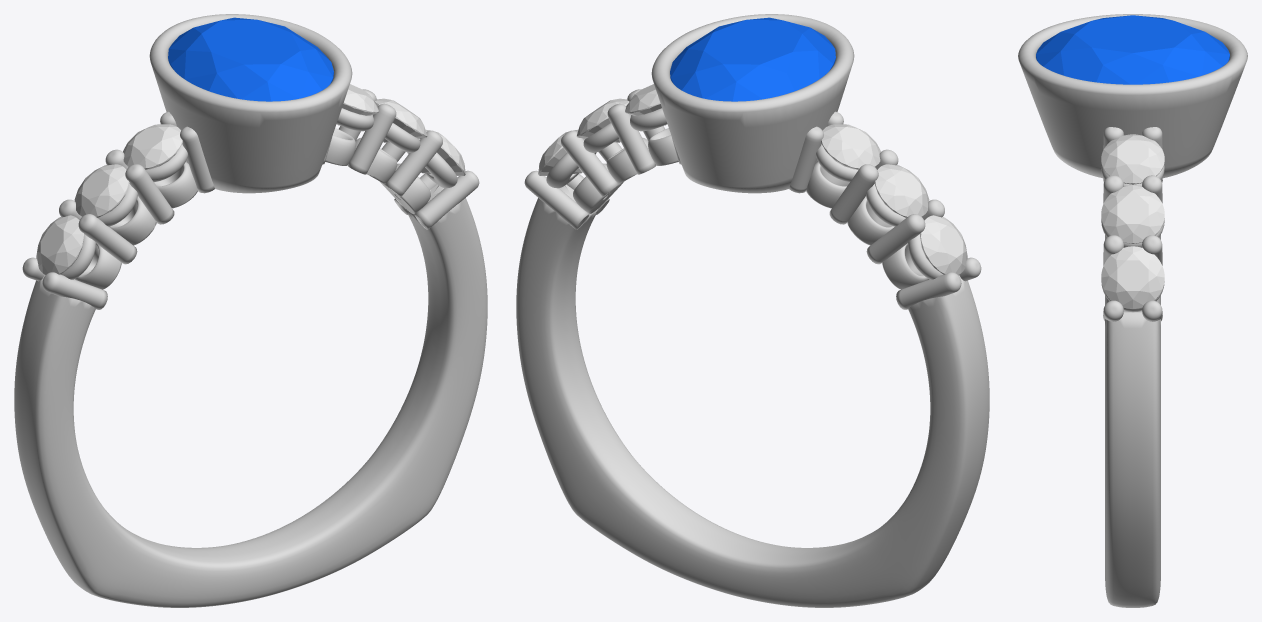
The model's file is bluesapphire-oval-platinum-bezelset-europeanshank-7stone.glb.
The picture shows the model from 3 angles, left to right: view 1: azimuth 30°, elevation 25°; view 2: azimuth 150°, elevation 25°; view 3: azimuth 270°, elevation 25°; orthographic projection. The views are drawn at different scales.
Visible parts, largest first — view 1: metal, stone.002, side.018, side.019, side.020, side.022, side.023, side.021; view 2: metal, stone.002, side.018, side.019, side.020, side.022, side.023, side.021; view 3: metal, stone.002, side.021, side.022, side.023.
Part boxes in pixels (x1,y1,x2,y2): metal: [14, 14, 487, 607]; stone.002: [168, 17, 333, 101]; side.018: [36, 215, 83, 274]; side.019: [74, 164, 129, 217]; side.020: [123, 124, 182, 169]; side.022: [374, 98, 427, 142]; side.023: [338, 84, 378, 125]; side.021: [420, 130, 465, 175]; metal: [516, 14, 989, 607]; stone.002: [670, 17, 835, 101]; side.018: [920, 215, 967, 274]; side.019: [874, 164, 929, 217]; side.020: [821, 124, 880, 169]; side.022: [576, 98, 629, 142]; side.023: [625, 84, 665, 125]; side.021: [538, 130, 583, 175]; metal: [1018, 14, 1247, 607]; stone.002: [1036, 15, 1229, 84]; side.021: [1101, 246, 1164, 308]; side.022: [1101, 185, 1164, 243]; side.023: [1101, 134, 1164, 184].
Size of the model in its own units: 20.1 by 23.2 by 9.04.
